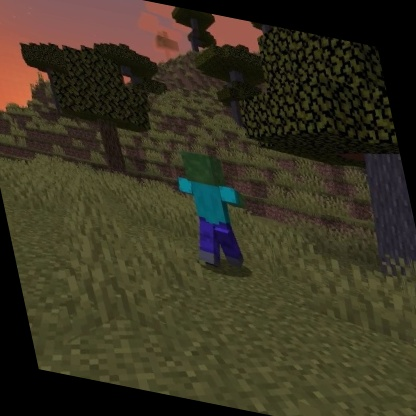zombie: (165, 145, 267, 280)
